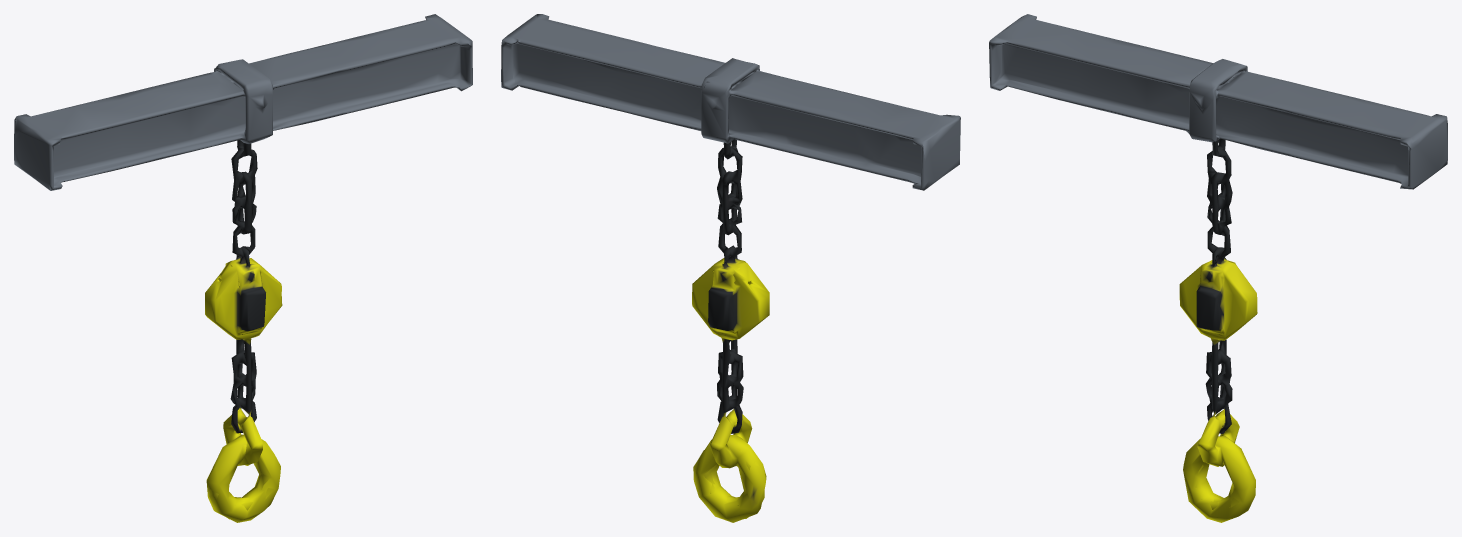
The model's file is gen3d-chain-hoist-lod0.glb.
3 views of the same model, side by side, from view 1: azimuth 30°, elevation 25°; view 2: azimuth 150°, elevation 25°; view 3: azimuth 330°, elevation 25° (orthographic).
Visible parts, largest first — view 1: part_0; view 2: part_0; view 3: part_0.
Part boxes in pixels (x1=…): part_0: x1=14, y1=14, x2=472, y2=522; part_0: x1=501, y1=14, x2=960, y2=522; part_0: x1=989, y1=14, x2=1447, y2=522.
Size of the model in its own units: 0.9849 by 0.9982 by 0.151.
